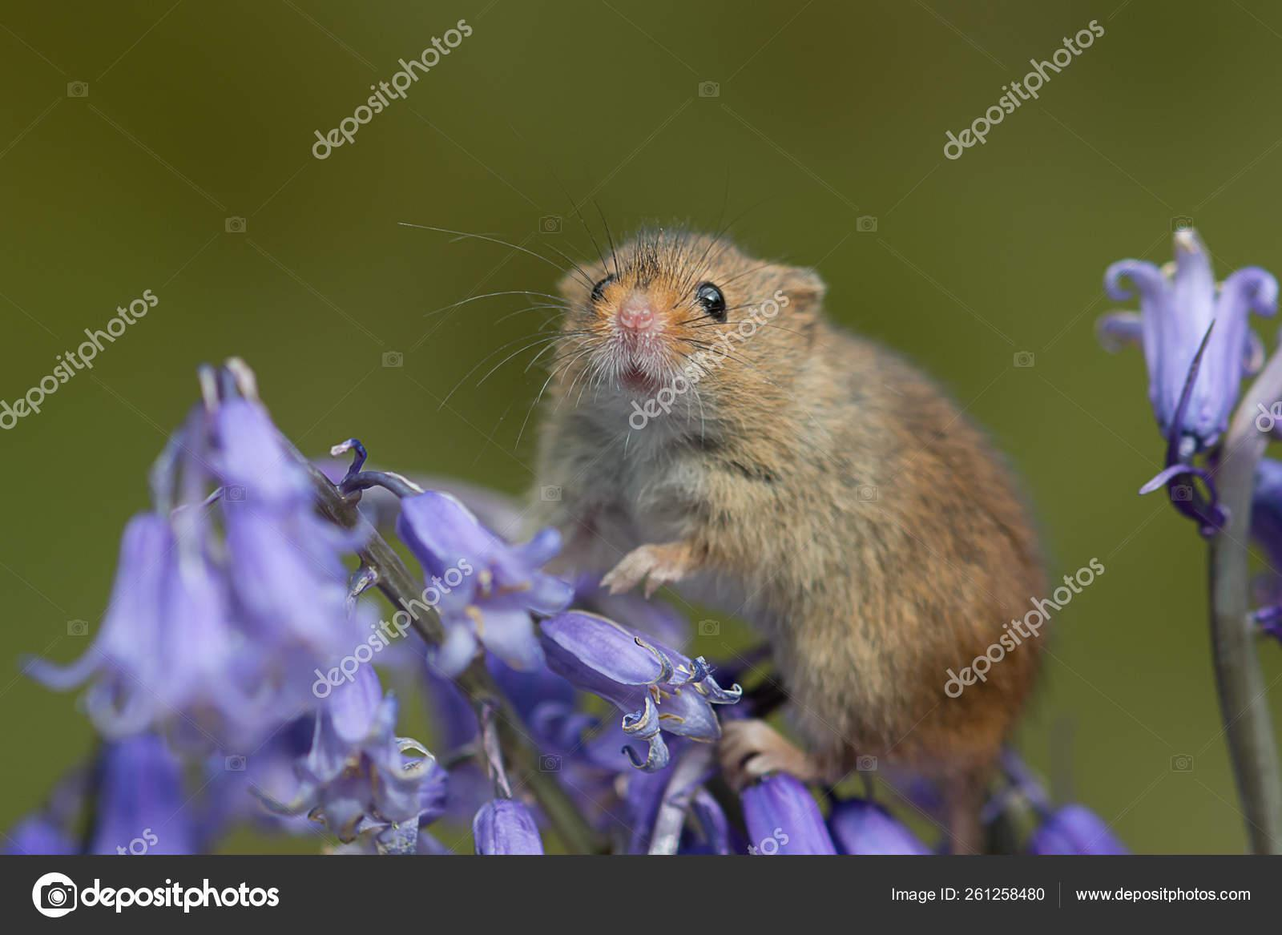rat: (532, 232, 1052, 792)
